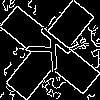K: (25, 25, 81, 80)
